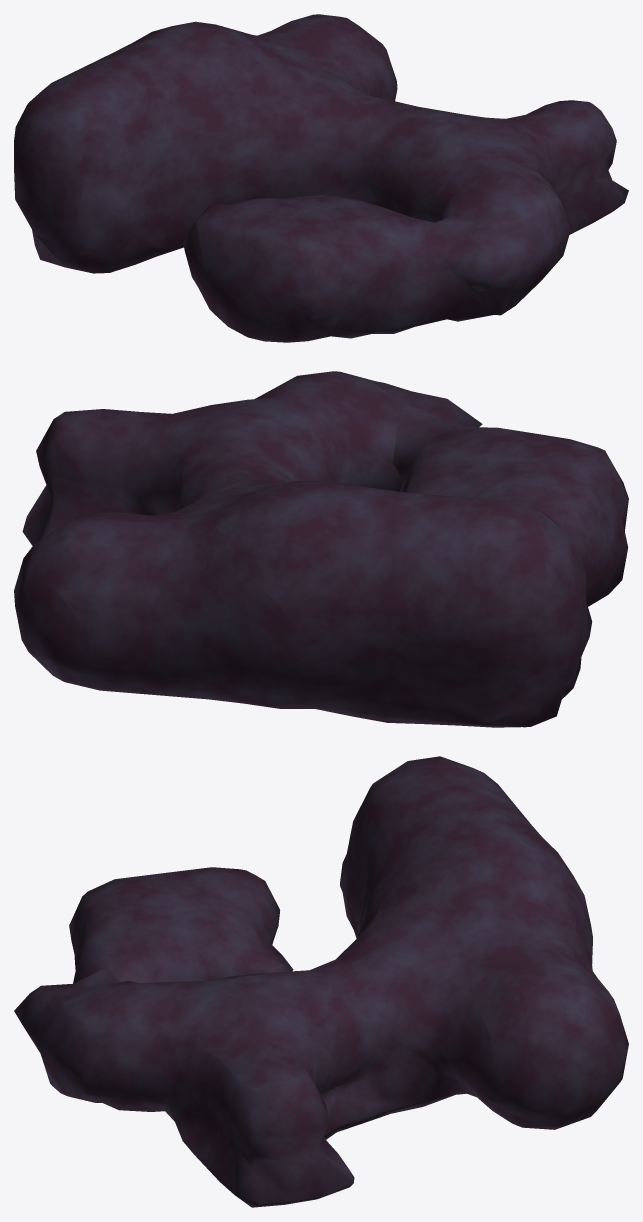
File: Cave1.fbx
The picture shows the model from 3 angles, top to bottom: view 1: azimuth 30°, elevation 25°; view 2: azimuth 150°, elevation 25°; view 3: azimuth 270°, elevation 25°; orthographic projection. The views are drawn at different scales.
Visible parts, largest first — view 1: Mball.177; view 2: Mball.177; view 3: Mball.177.
Part boxes in pixels (x1,y1,x2,y2): Mball.177: (14,14,628,342); Mball.177: (14,371,628,727); Mball.177: (14,756,628,1207).
Bounding box in the file's own units: 34.82 × 31.27 × 11.72.
